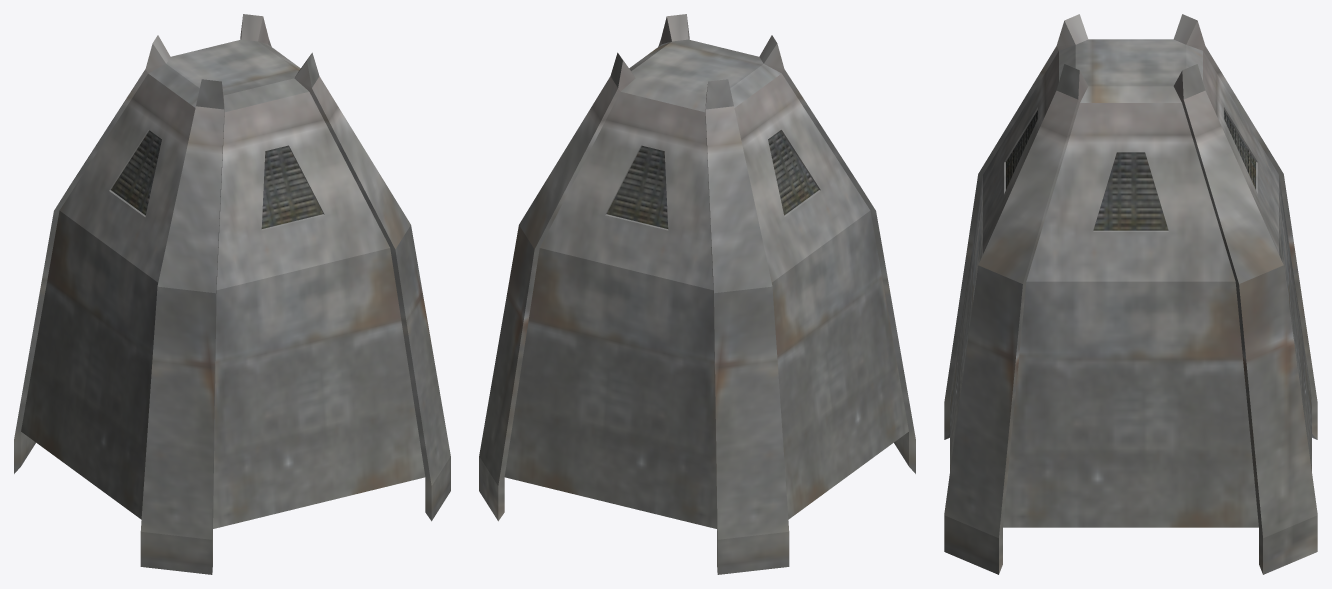
Rendered from drop_pod_1_down.dae.
The picture shows the model from 3 angles, left to right: view 1: azimuth 30°, elevation 25°; view 2: azimuth 150°, elevation 25°; view 3: azimuth 270°, elevation 25°; orthographic projection. The views are drawn at different scales.
Visible parts, largest first — view 1: drop_pod_1; view 2: drop_pod_1; view 3: drop_pod_1.
Part boxes in pixels (x1,y1,x2,y2): drop_pod_1: (14, 14, 450, 574); drop_pod_1: (479, 14, 915, 574); drop_pod_1: (944, 14, 1317, 574).
Size of the model in its own units: 6.9 by 6.9 by 9.25.
